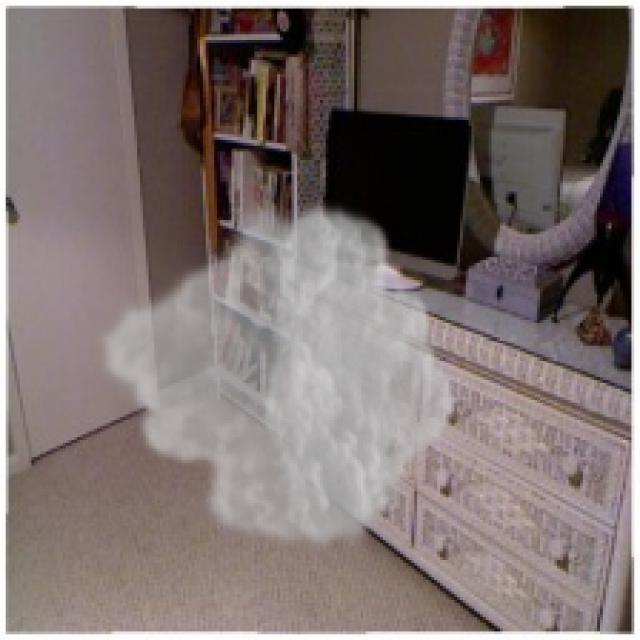smoke: (94, 194, 460, 557)
